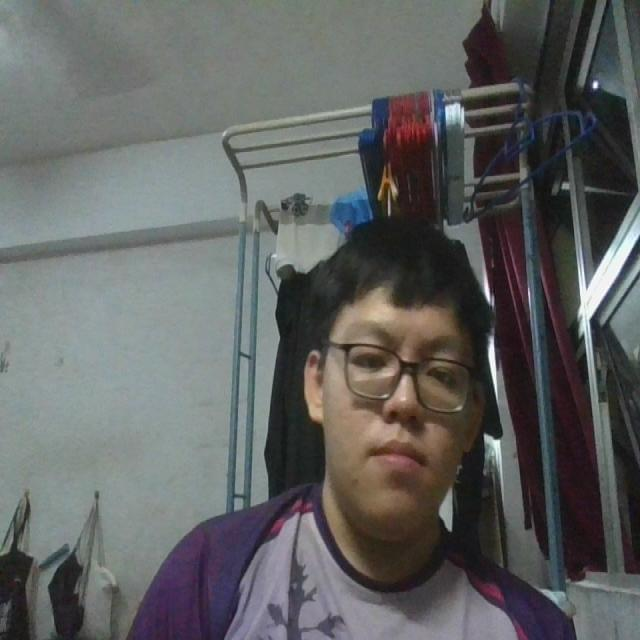person_without_labcoat: (128, 215, 575, 639)
